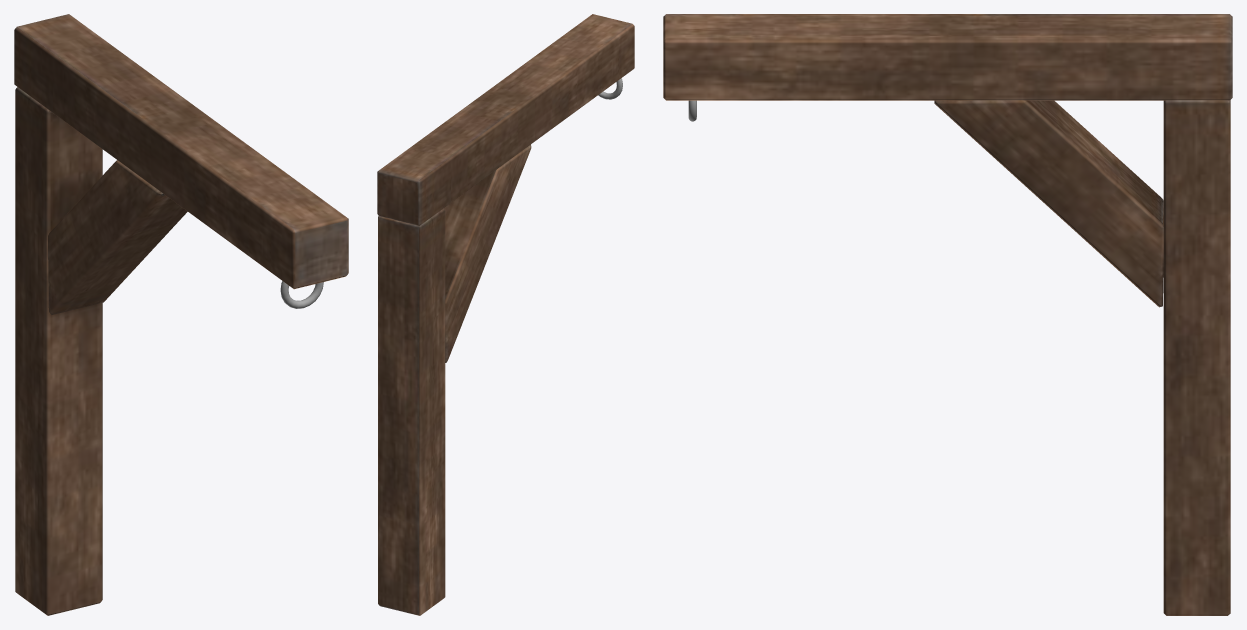
The model's file is SM_Gibbet_Cage_Wall_Mount.glb.
3 views of the same model, side by side, from view 1: azimuth 30°, elevation 25°; view 2: azimuth 150°, elevation 25°; view 3: azimuth 270°, elevation 25° (orthographic). The views are drawn at different scales.
Parts seen in each view (by area): view 1: SM_Gibbet_Cage_Wall_Mount; view 2: SM_Gibbet_Cage_Wall_Mount; view 3: SM_Gibbet_Cage_Wall_Mount.
Part boxes in pixels (x1,y1,x2,y2): SM_Gibbet_Cage_Wall_Mount: (14, 14, 348, 615); SM_Gibbet_Cage_Wall_Mount: (377, 14, 634, 615); SM_Gibbet_Cage_Wall_Mount: (663, 14, 1232, 615).
Bounding box in the file's own units: 0.1613 × 1.53 × 1.37.
Materials: 1 (1 with a texture image).
